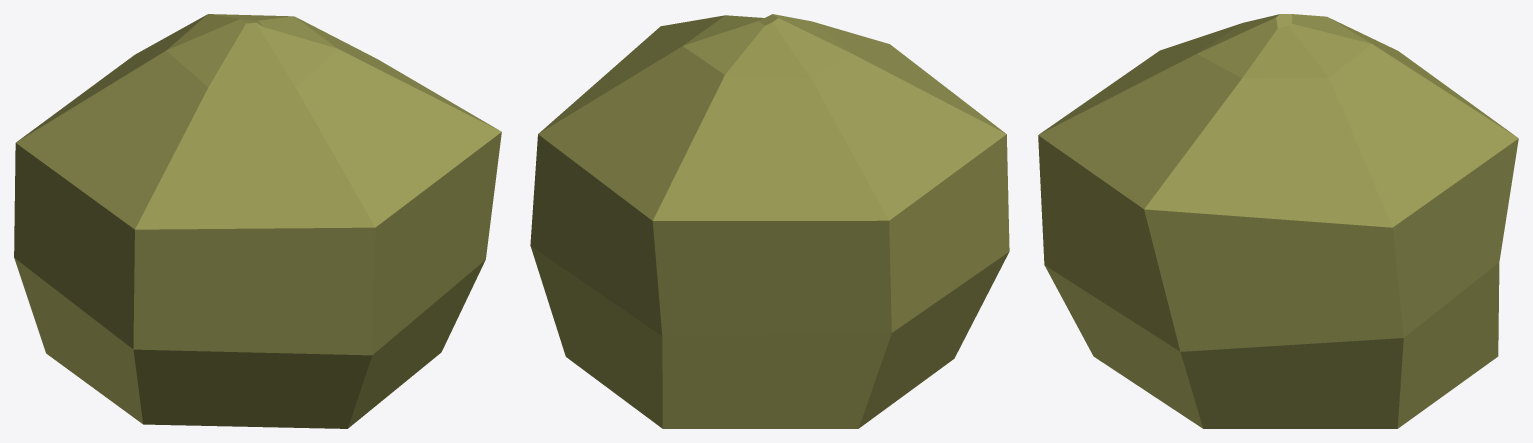
The model's file is Forest_Shrub3.fbx.
3 renders of one model, left to right at view 1: azimuth 30°, elevation 25°; view 2: azimuth 150°, elevation 25°; view 3: azimuth 270°, elevation 25°, orthographic.
Parts seen in each view (by area): view 1: Cylinder.001; view 2: Cylinder.001; view 3: Cylinder.001.
Part boxes in pixels (x1,y1,x2,y2): Cylinder.001: [14, 14, 501, 428]; Cylinder.001: [530, 14, 1009, 428]; Cylinder.001: [1038, 14, 1518, 428].
Size of the model in its own units: 173 by 155 by 199.
